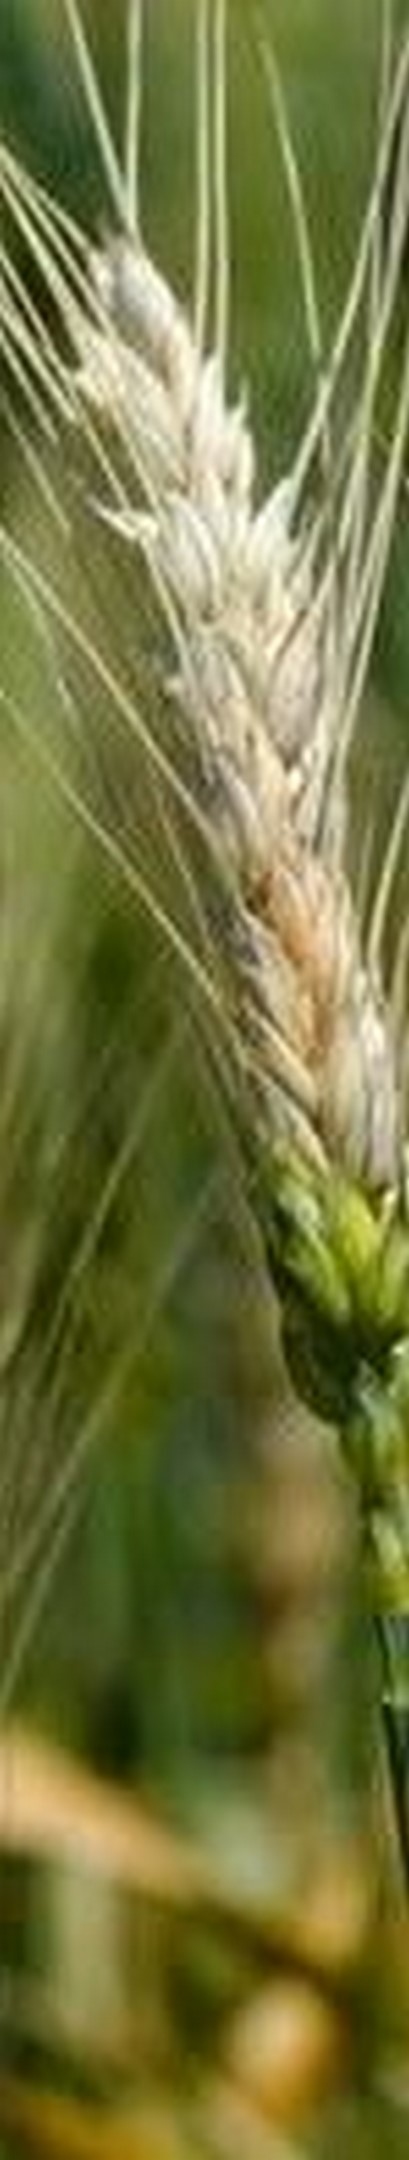Wheat scab: (39, 168, 409, 1442)
